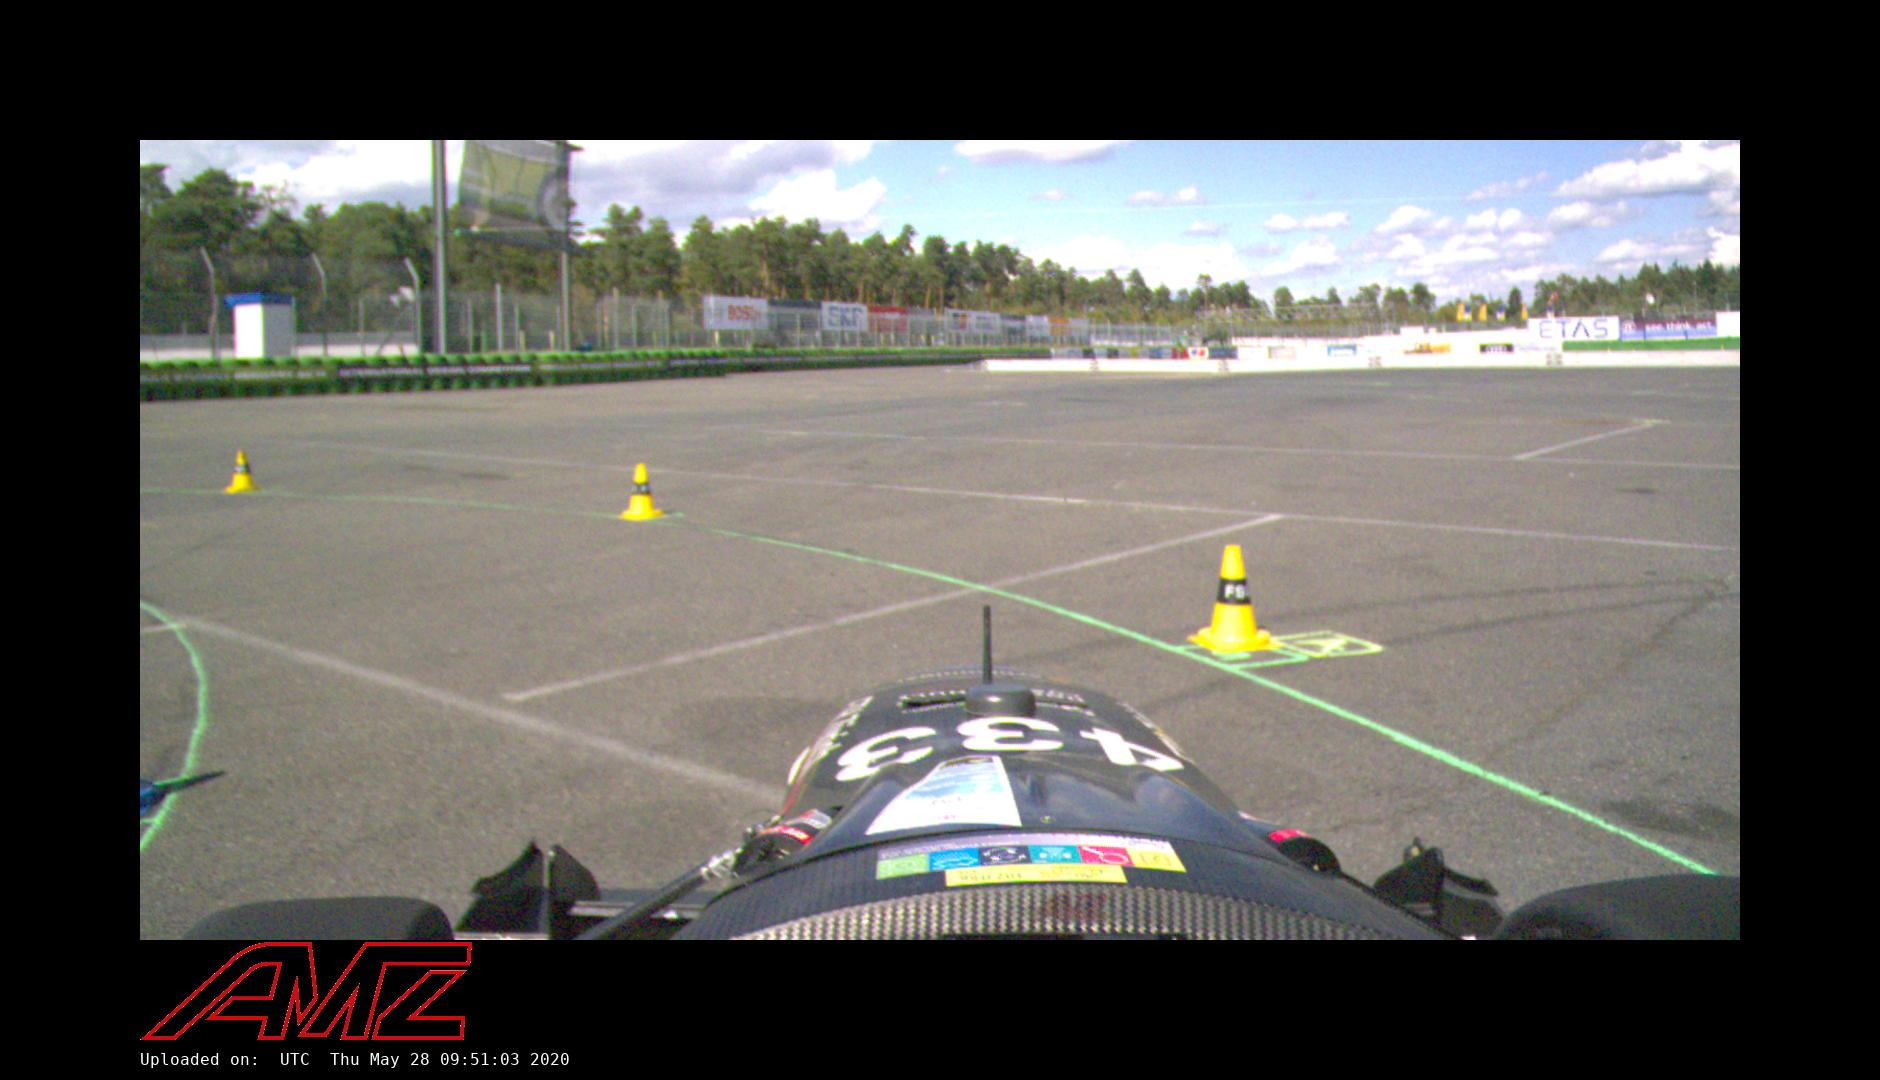yellow_cone: (1193, 543, 1269, 652), (618, 462, 657, 518), (225, 450, 256, 493)
